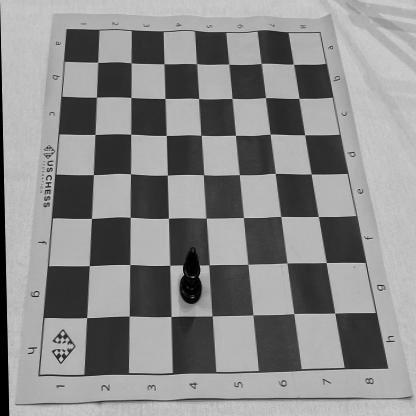black-bishop: (178, 247, 202, 304)
